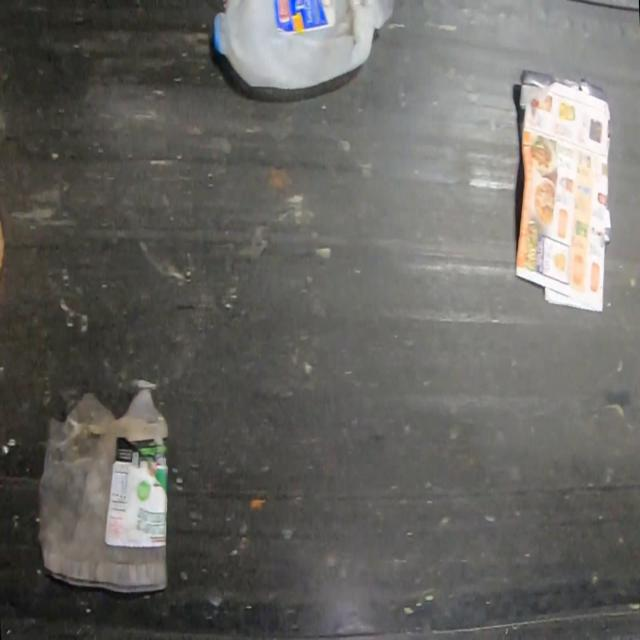rigid_plastic: (34, 386, 170, 595), (213, 0, 396, 91)
